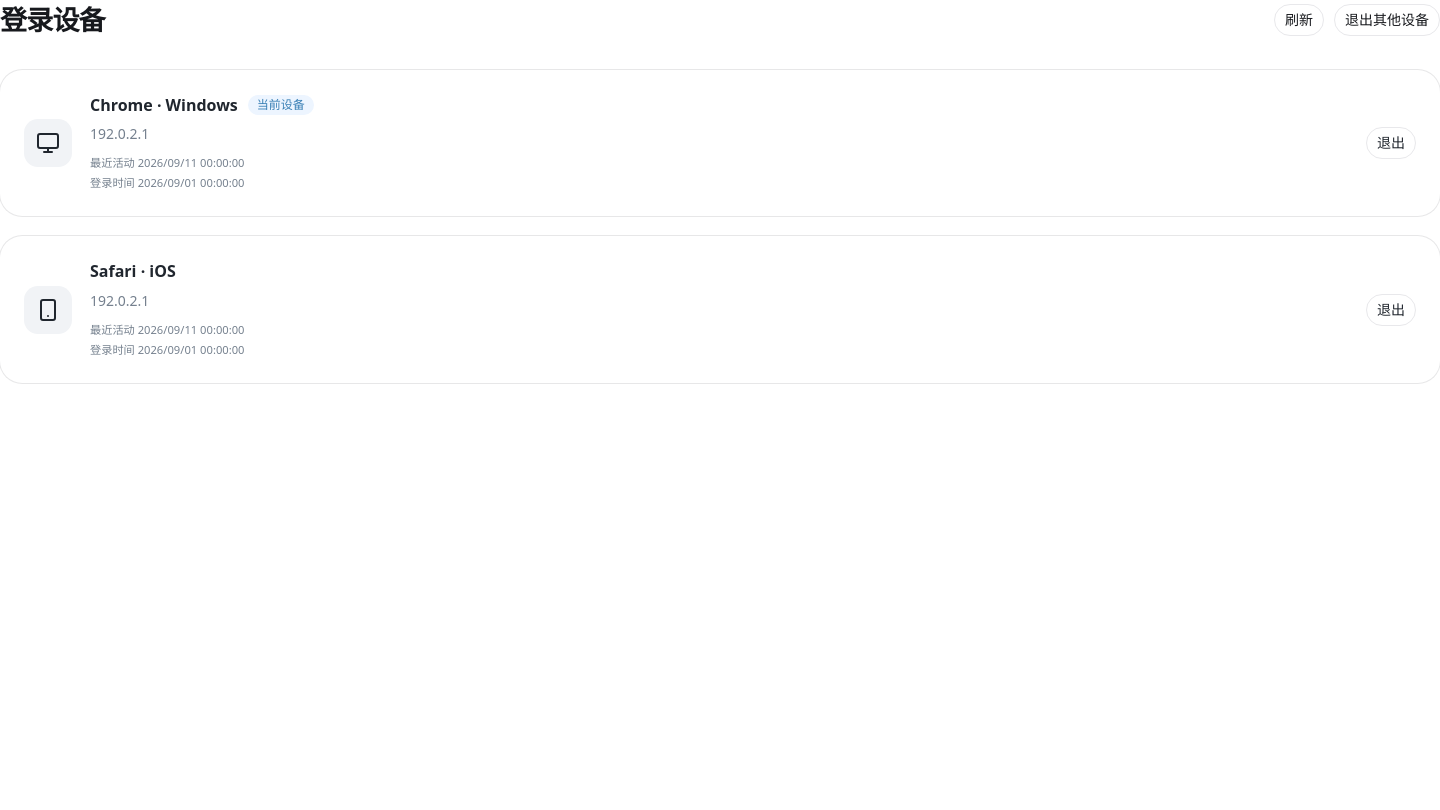
revokes other devices while retaining the current device in the refreshed view
Expected: the heading "Safari · iOS" is shown, [90,260,176,283]
Click the button "退出其他设备" at (1387, 20), box [1334,4,1439,36]
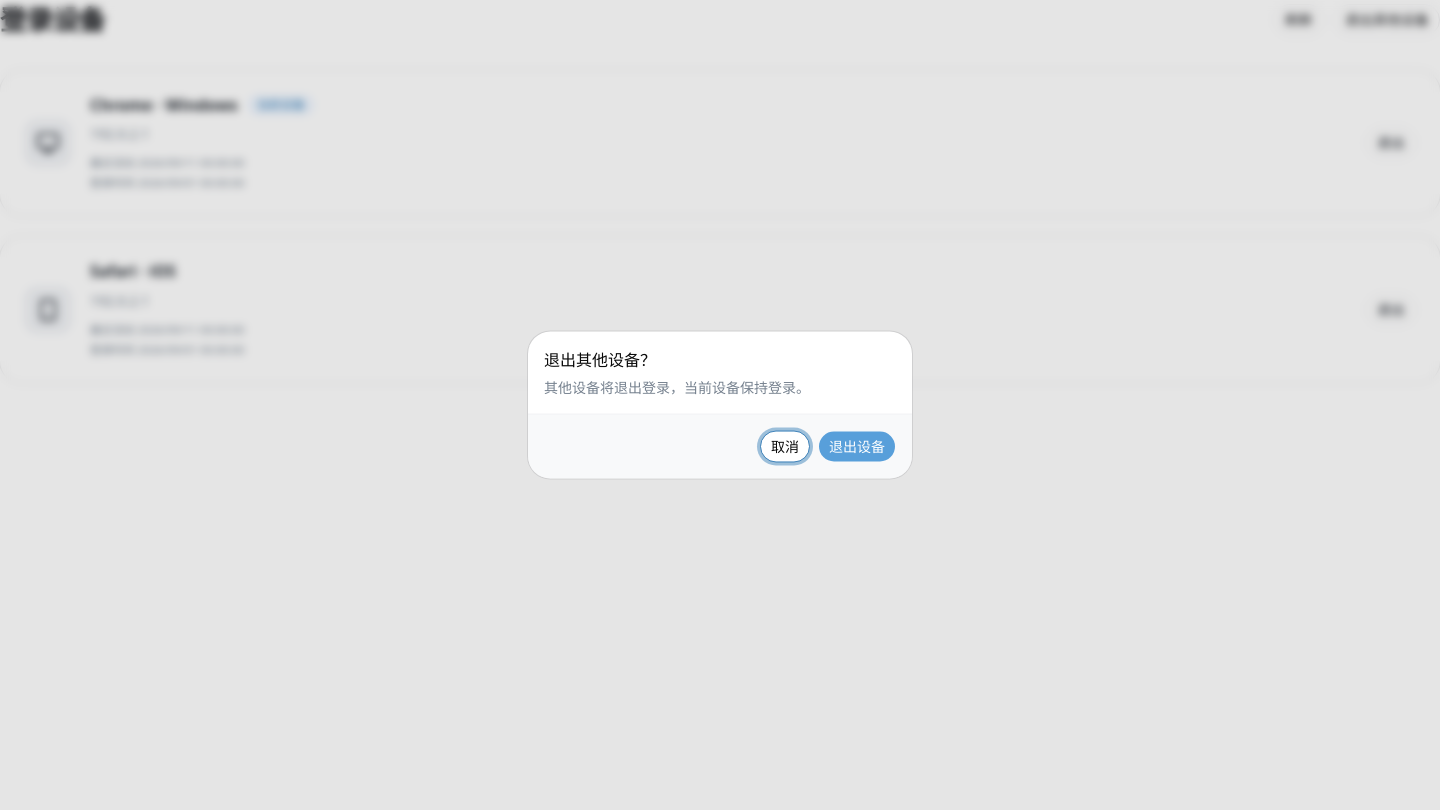
Click the button "退出设备" at (857, 446), box [818,430,896,462]
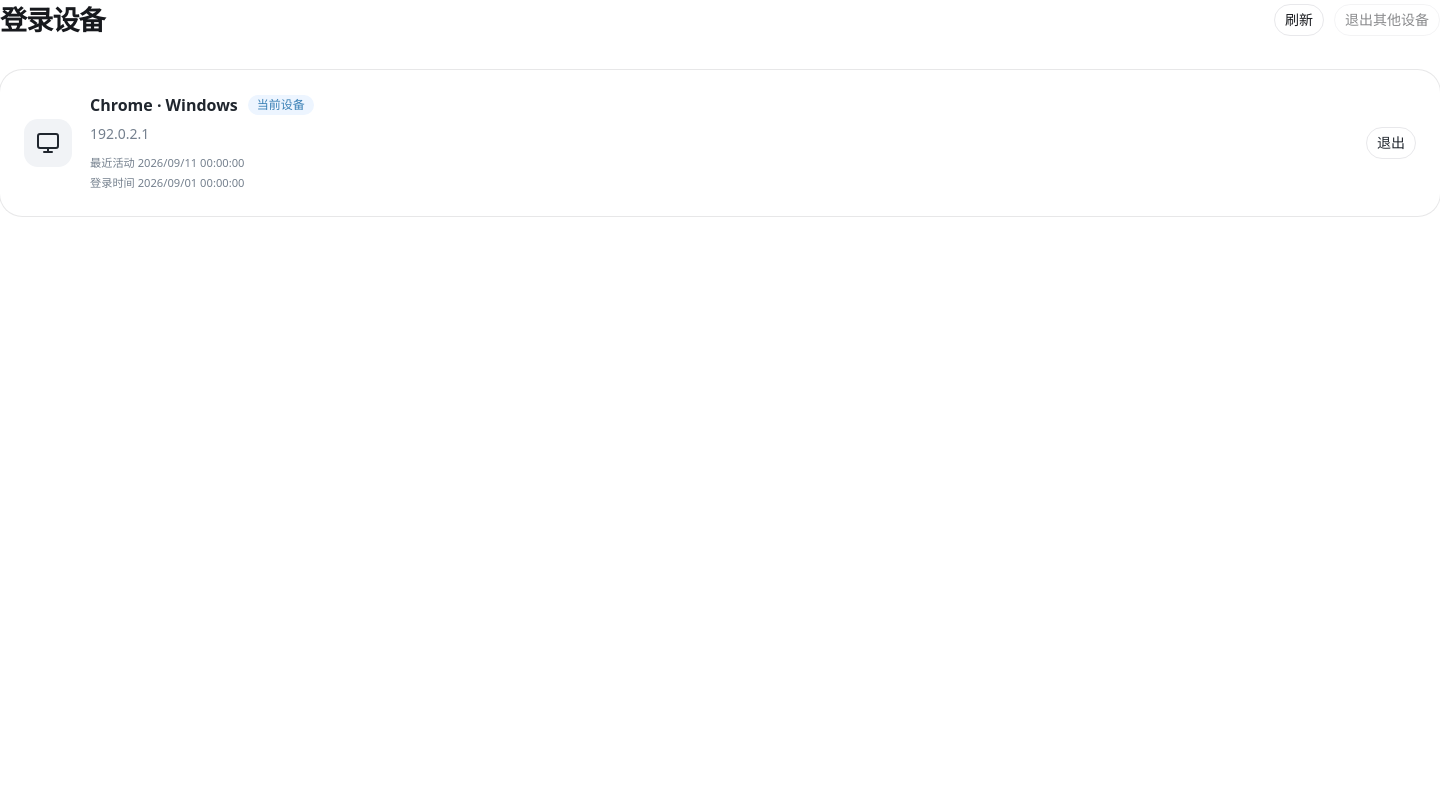
Expected: the text "当前设备" is shown, [248,95,314,115]
Result: the heading "Safari · iOS" is gone
